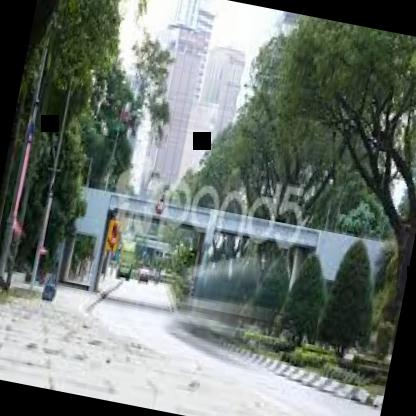car: (133, 254, 156, 292)
